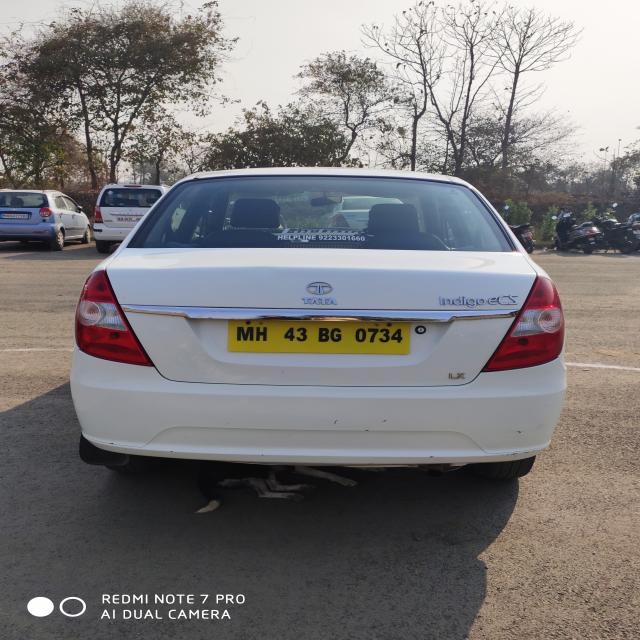Number-Plate: (230, 318, 409, 352)
